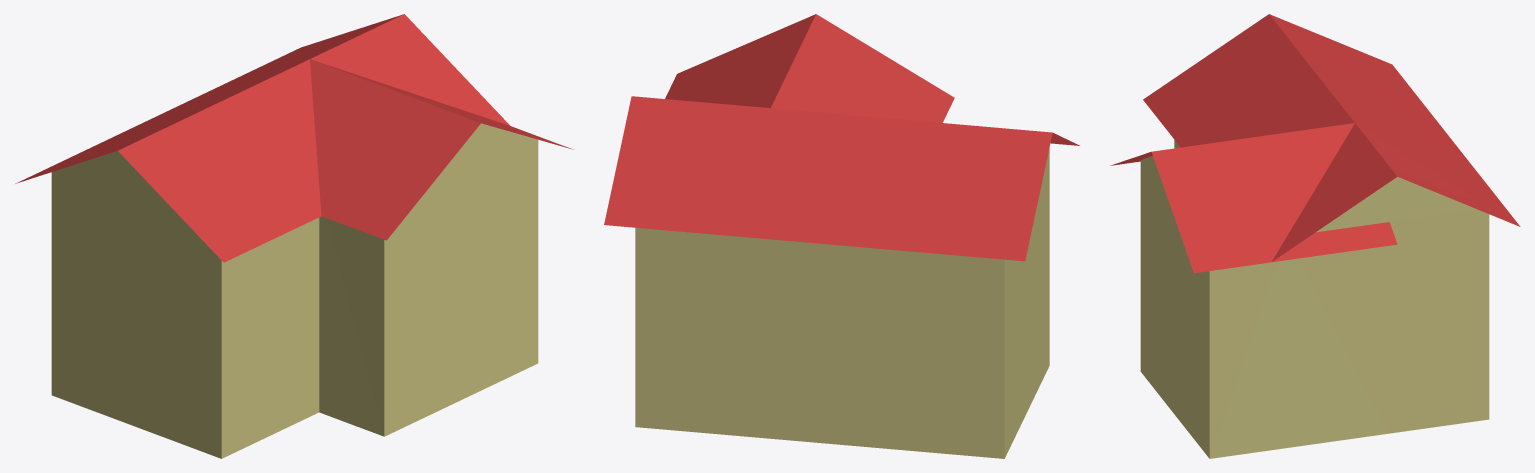
3 renders of one model, left to right at view 1: azimuth 30°, elevation 25°; view 2: azimuth 150°, elevation 25°; view 3: azimuth 270°, elevation 25°, orthographic. The views are drawn at different scales.
Bounding box in the file's own units: 19.81 × 16.5 × 11.8.
